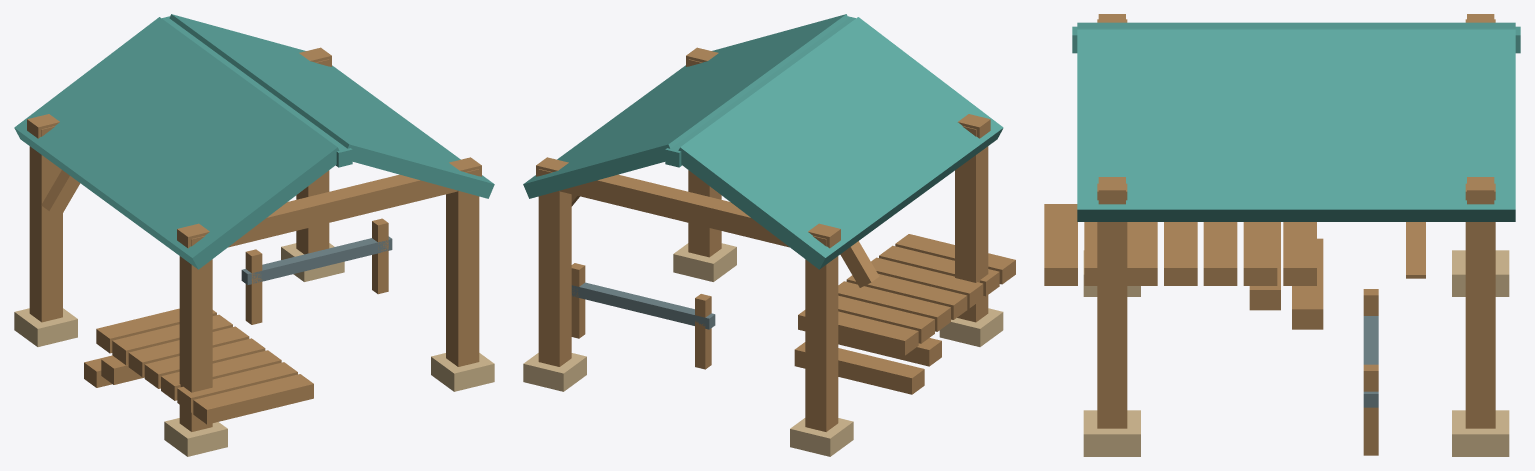
Rendered from CartStation.glb.
3 renders of one model, left to right at view 1: azimuth 30°, elevation 25°; view 2: azimuth 150°, elevation 25°; view 3: azimuth 270°, elevation 25°, orthographic. The views are drawn at different scales.
Parts seen in each view (by area): view 1: hand-pump-static-cart-station-slate-roof, hand-pump-static-cart-station-oak-timber, hand-pump-static-cart-station-platform-planks, hand-pump-static-cart-station-stone-footings, hand-pump-static-cart-station-iron-hitch; view 2: hand-pump-static-cart-station-slate-roof, hand-pump-static-cart-station-oak-timber, hand-pump-static-cart-station-platform-planks, hand-pump-static-cart-station-stone-footings, hand-pump-static-cart-station-iron-hitch; view 3: hand-pump-static-cart-station-slate-roof, hand-pump-static-cart-station-oak-timber, hand-pump-static-cart-station-platform-planks, hand-pump-static-cart-station-stone-footings, hand-pump-static-cart-station-iron-hitch.
Boxes of the visible parts, x1=… form: hand-pump-static-cart-station-slate-roof: x1=14, y1=14, x2=494, y2=269; hand-pump-static-cart-station-oak-timber: x1=27, y1=47, x2=481, y2=431; hand-pump-static-cart-station-platform-planks: x1=84, y1=308, x2=313, y2=424; hand-pump-static-cart-station-stone-footings: x1=14, y1=243, x2=494, y2=456; hand-pump-static-cart-station-iron-hitch: x1=241, y1=236, x2=392, y2=284; hand-pump-static-cart-station-slate-roof: x1=523, y1=14, x2=1003, y2=269; hand-pump-static-cart-station-oak-timber: x1=536, y1=47, x2=990, y2=431; hand-pump-static-cart-station-platform-planks: x1=794, y1=234, x2=1015, y2=394; hand-pump-static-cart-station-stone-footings: x1=523, y1=243, x2=1003, y2=456; hand-pump-static-cart-station-iron-hitch: x1=571, y1=282, x2=715, y2=329; hand-pump-static-cart-station-slate-roof: x1=1072, y1=22, x2=1520, y2=221; hand-pump-static-cart-station-oak-timber: x1=1097, y1=14, x2=1495, y2=455; hand-pump-static-cart-station-platform-planks: x1=1044, y1=204, x2=1323, y2=329; hand-pump-static-cart-station-stone-footings: x1=1083, y1=250, x2=1509, y2=456; hand-pump-static-cart-station-iron-hitch: x1=1363, y1=316, x2=1378, y2=407.
Size of the model in its own units: 3.72 by 3 by 3.83.
